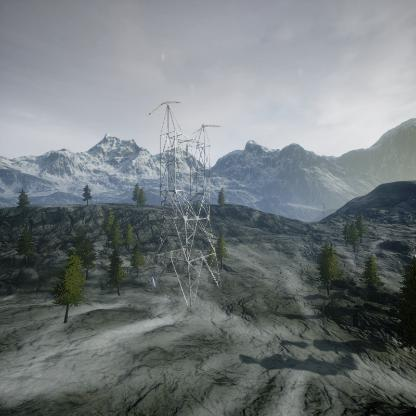tower: (147, 99, 225, 312)
